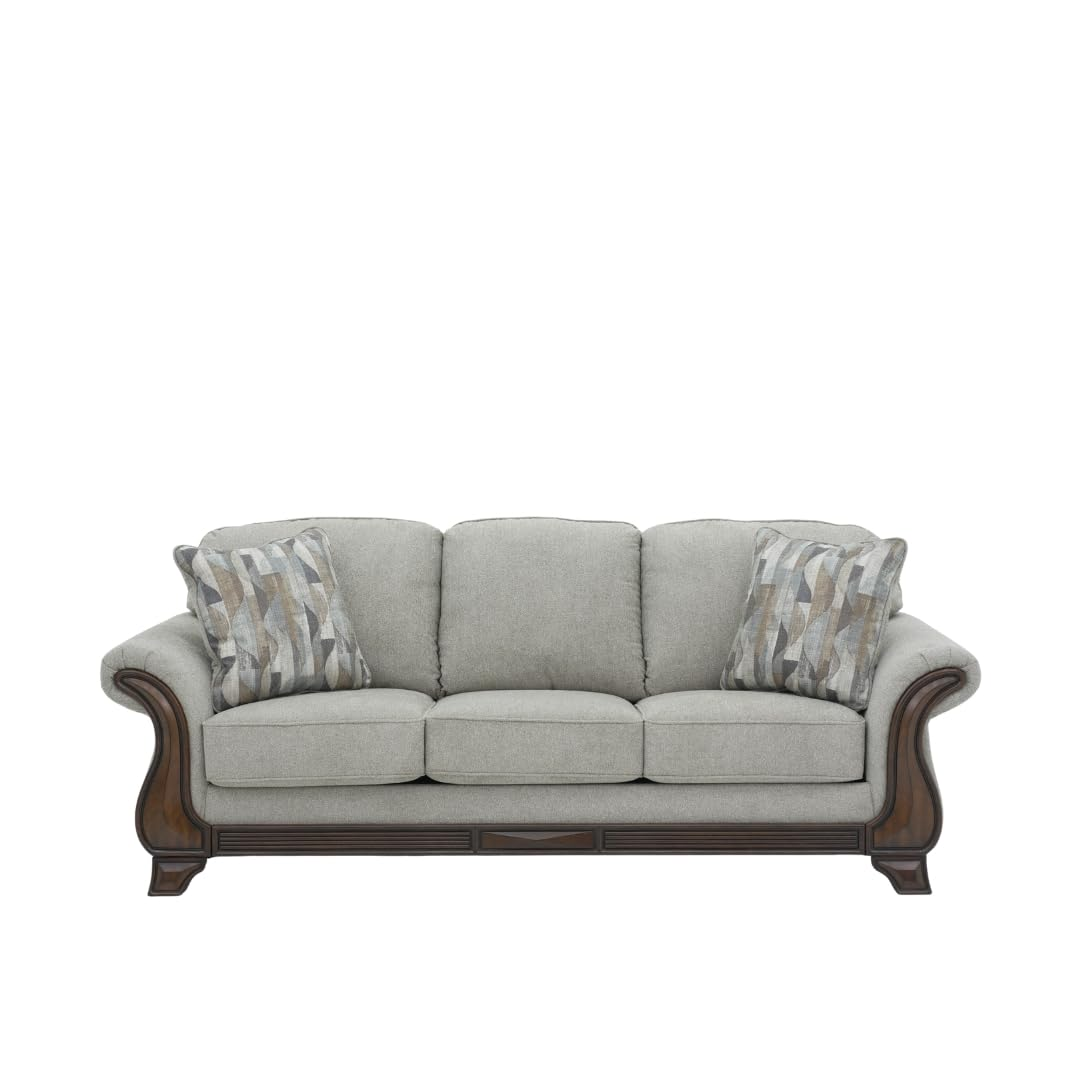3seatersofa: (103, 517, 979, 895)
backrest: (201, 518, 872, 700)
base: (202, 783, 869, 855)
leftarmrest: (865, 615, 978, 853)
leg: (149, 856, 206, 895), (872, 856, 930, 893)
pillow: (175, 528, 370, 710), (722, 528, 905, 708)
rightarmrest: (101, 613, 211, 856)
seat: (202, 689, 868, 790)
